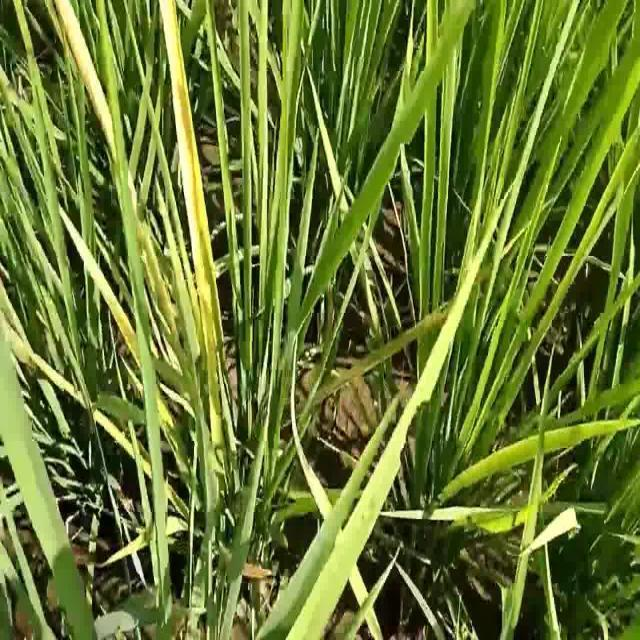Rice Tungro: (52, 2, 162, 260), (158, 3, 230, 368), (57, 204, 144, 373)
